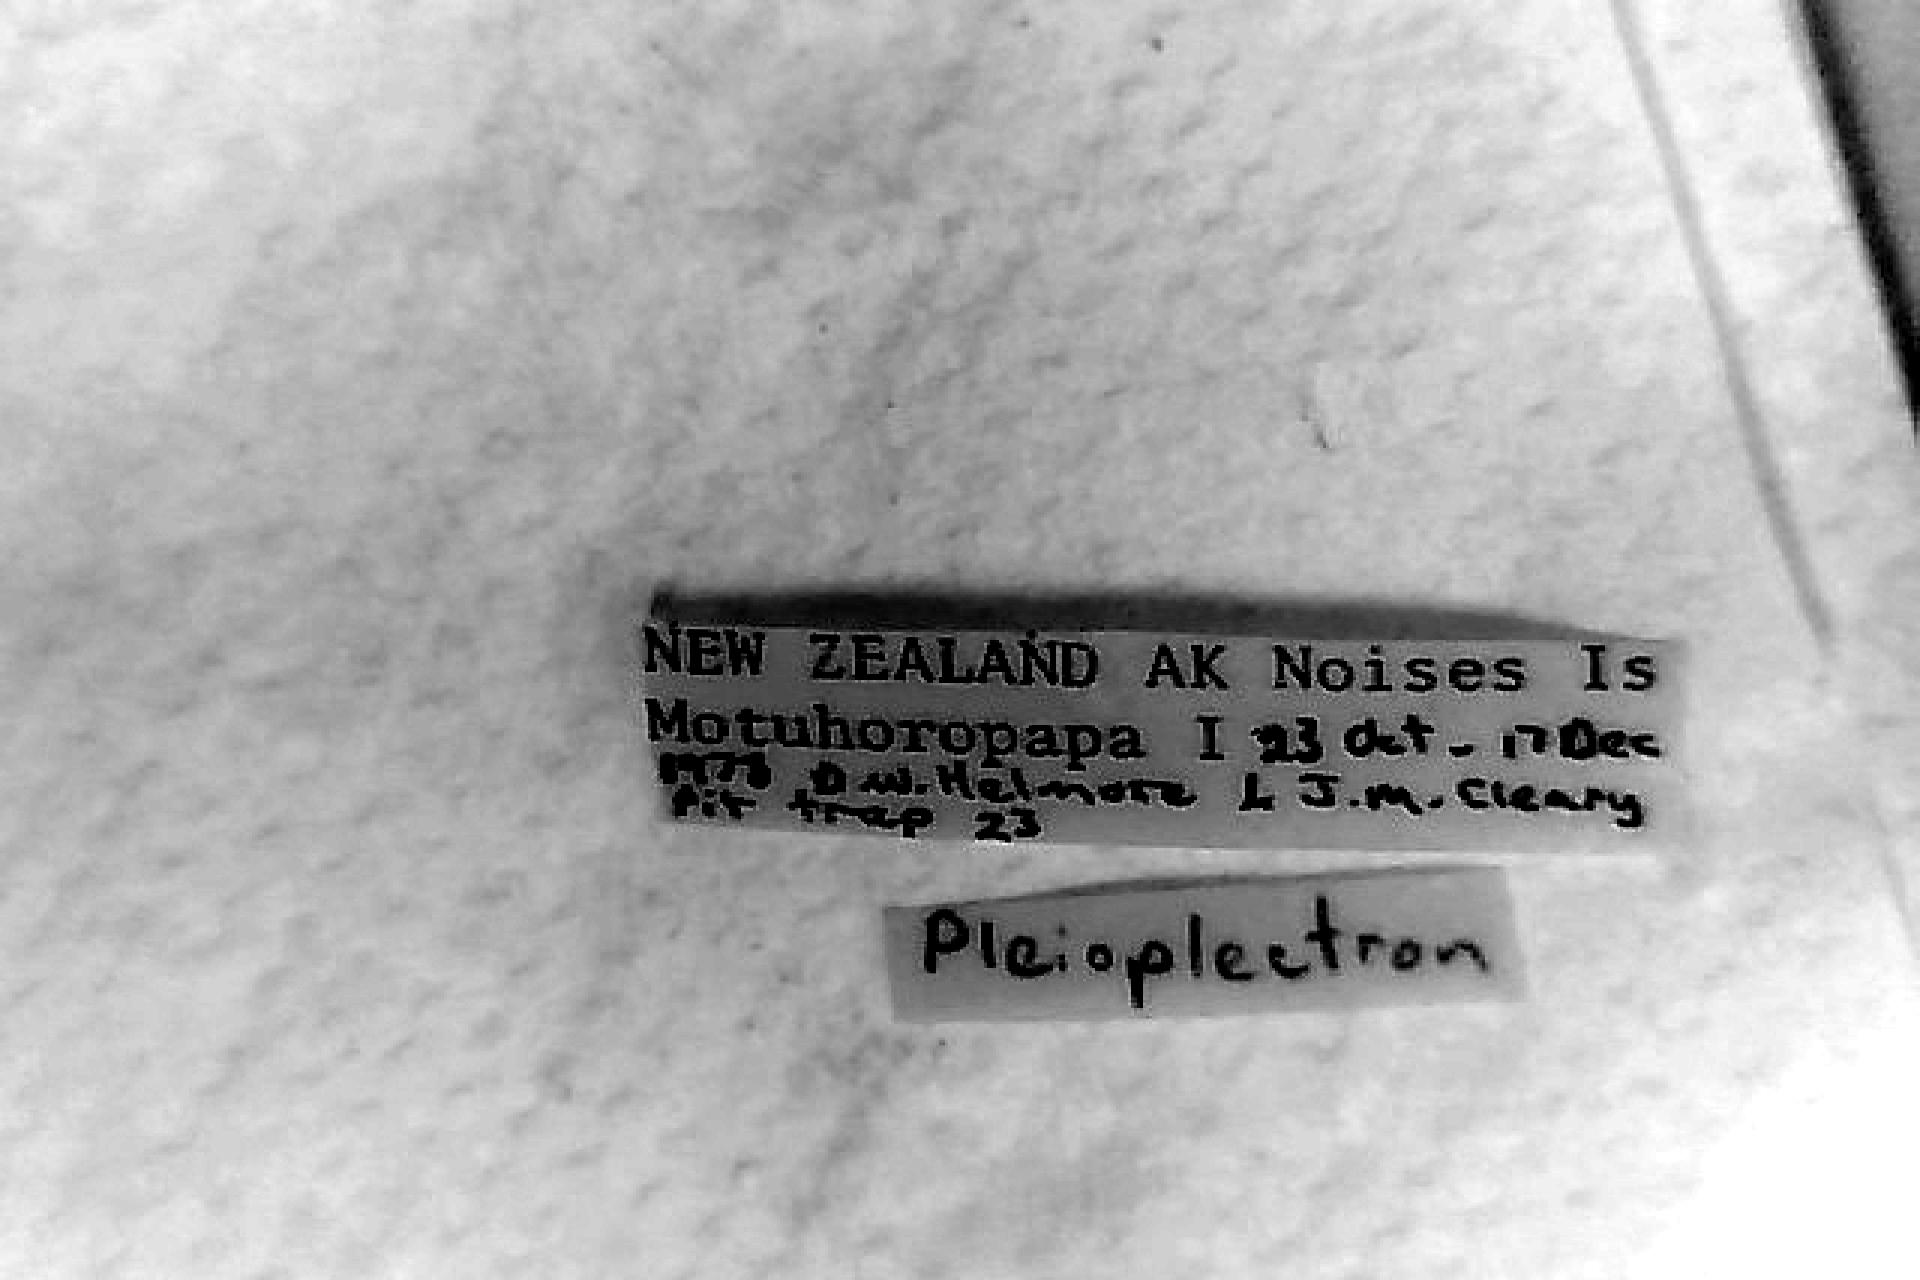hand_label: (886, 867, 1526, 1019)
mixed_label: (646, 600, 1691, 851)
